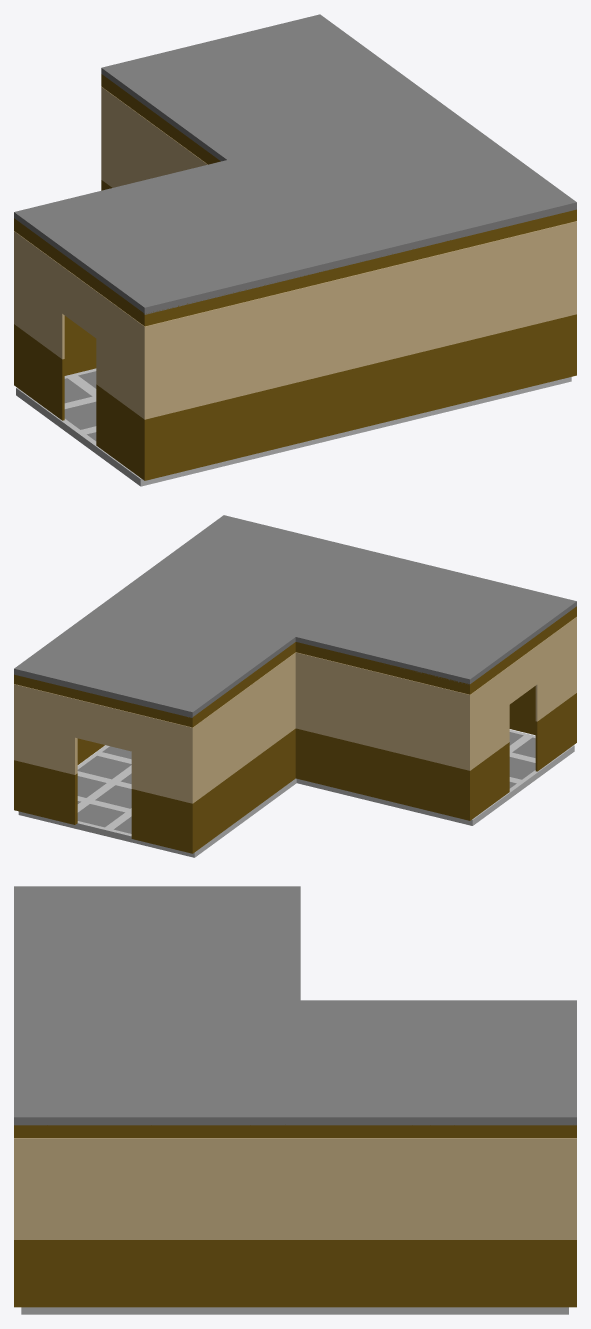
File: WalkWay-2 (1).fbx
3 renders of one model, top to bottom at view 1: azimuth 30°, elevation 25°; view 2: azimuth 150°, elevation 25°; view 3: azimuth 270°, elevation 25°, orthographic. The views are drawn at different scales.
Parts seen in each view (by area): view 1: Wall001, Upper.wall-3, Cube.003, _WalkPath-02.001; view 2: Wall001, Upper.wall-3, _WalkPath-02.001, Cube.003; view 3: Upper.wall-3, Wall001, Cube.003, _WalkPath-02.001.
Boxes of the visible parts, box(x1,y1,x2,y2) form: Wall001: box(14, 86, 576, 480); Upper.wall-3: box(14, 14, 576, 314); Cube.003: box(14, 74, 576, 326); _WalkPath-02.001: box(16, 368, 571, 486); Wall001: box(14, 617, 576, 853); Upper.wall-3: box(14, 515, 576, 717); _WalkPath-02.001: box(18, 729, 574, 857); Cube.003: box(14, 606, 576, 727); Upper.wall-3: box(14, 886, 576, 1125); Wall001: box(14, 1138, 576, 1307); Cube.003: box(14, 1125, 576, 1137); _WalkPath-02.001: box(21, 1307, 568, 1314).
Bounding box in the file's own units: 934 × 374 × 960.
